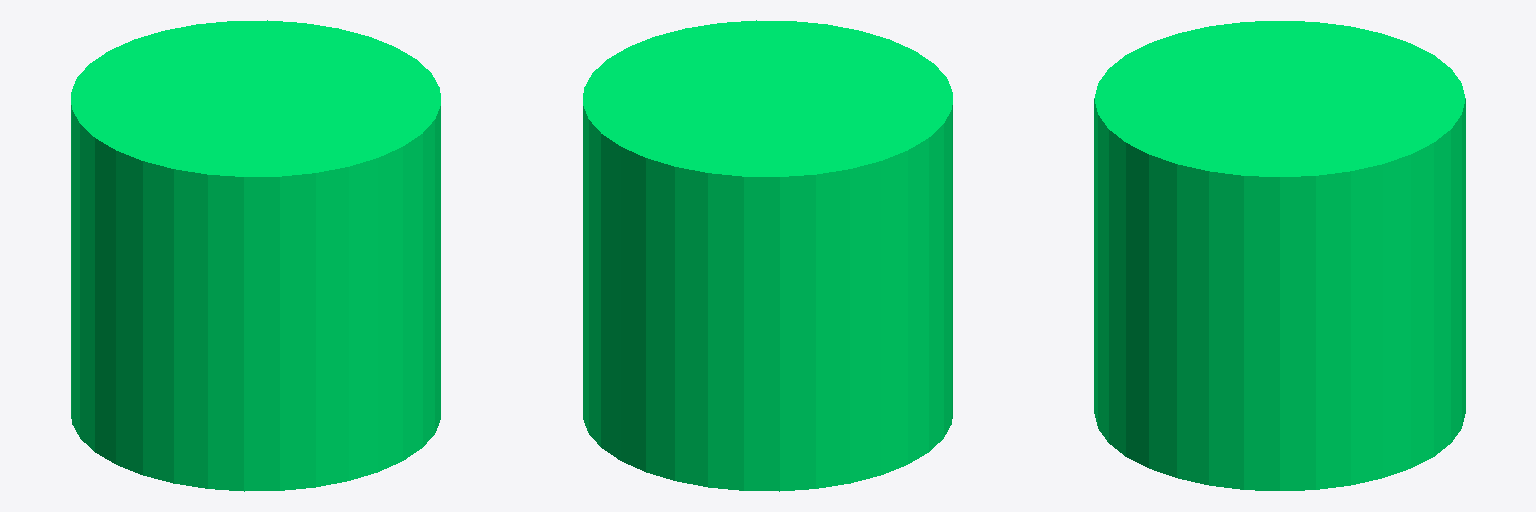
robot.urdf — myfirst:
<?xml version="1.0"?>
 <robot name="myfirst">
   <material name="light_green">
     <color rgba="0 1 0.498 1"/>
   </material>
   <link name="right_leg">
     <visual>
       <geometry>
         <cylinder length="0.08185500144958496" radius="0.043829689025878906"/>
       </geometry>
       <material name="light_green"/>
     </visual>
     <inertial>
       <mass value="0"/>
       <inertia ixx="1.0" ixy="0.0" ixz="0.0" iyy="1.0" iyz="0.0" izz="1.0"/>
     </inertial>
   </link>
 </robot>

--- Facts derived from the render (not from the file) ---
Views: 3 orthographic renders of the robot side by side, from view 1: azimuth 30°, elevation 25°; view 2: azimuth 150°, elevation 25°; view 3: azimuth 270°, elevation 25°.
Robot: myfirst — 1 links, 0 joints (none); root link right_leg; default pose: every joint at zero.
Visible links, largest first — view 1: right_leg; view 2: right_leg; view 3: right_leg.
Link boxes in pixels (x1,y1,x2,y2): right_leg: (71,20,440,491); right_leg: (583,20,952,491); right_leg: (1094,21,1465,490).
Bounding box of the posed robot: 0.0877 × 0.0877 × 0.0819 m (x, y, z).
Geometry: primitives only (box / cylinder / sphere), no mesh files.
